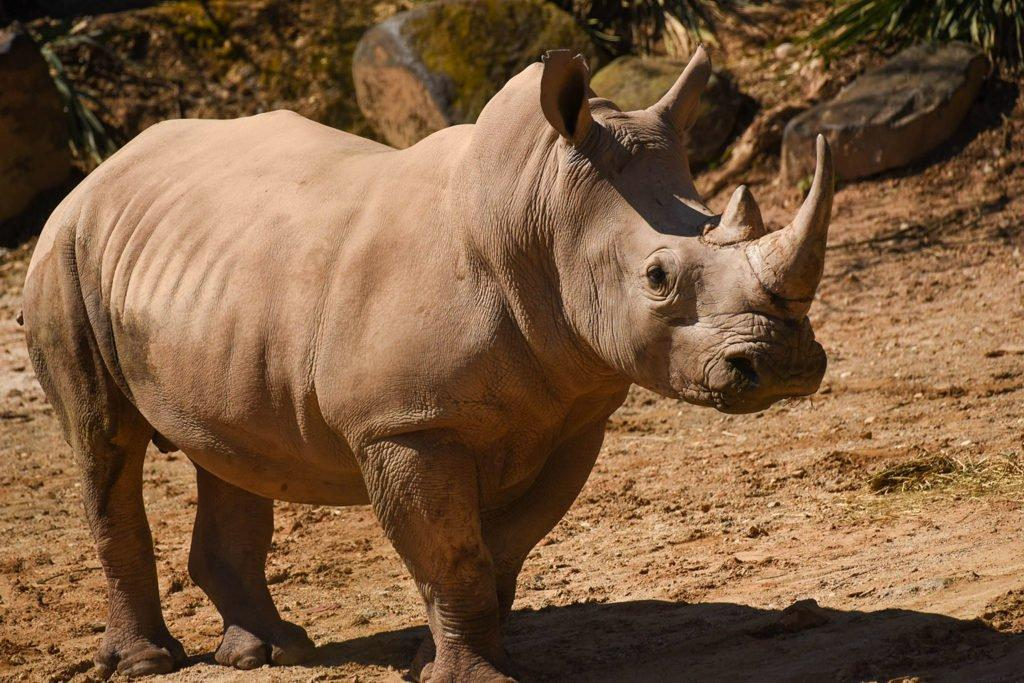Rhinoceroses: (18, 48, 833, 682)
